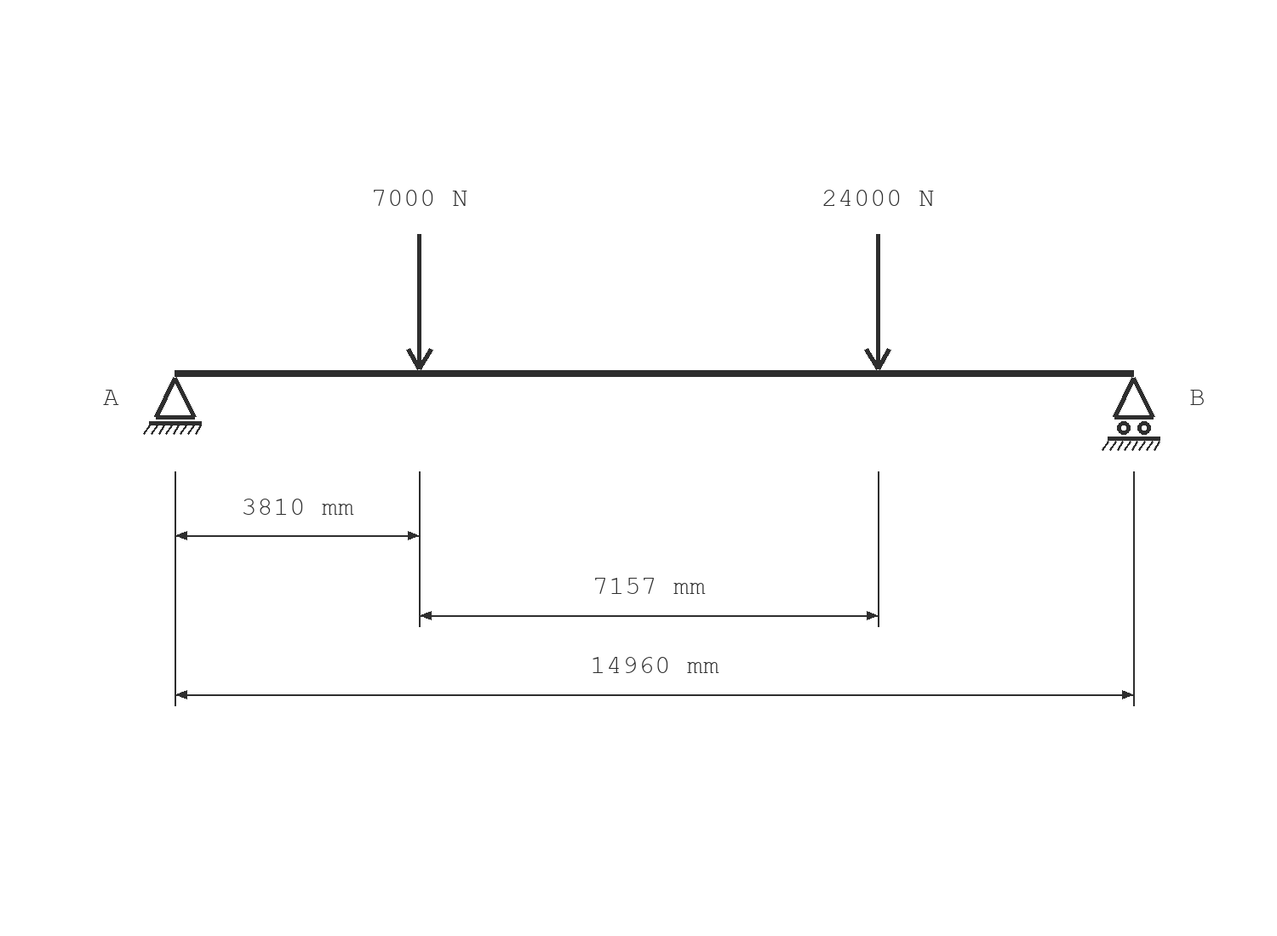pin_support: (143, 377, 202, 435)
point_load: (406, 234, 433, 370), (864, 234, 891, 370)
roller_support: (1102, 377, 1160, 451)
